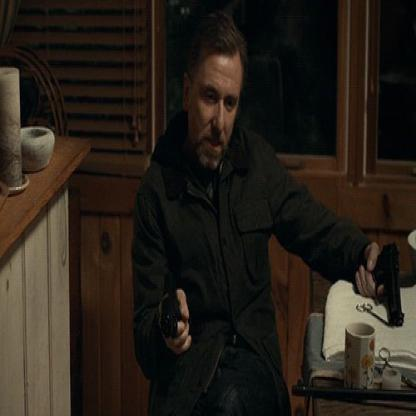Guns: (349, 239, 409, 332), (159, 268, 183, 344)
